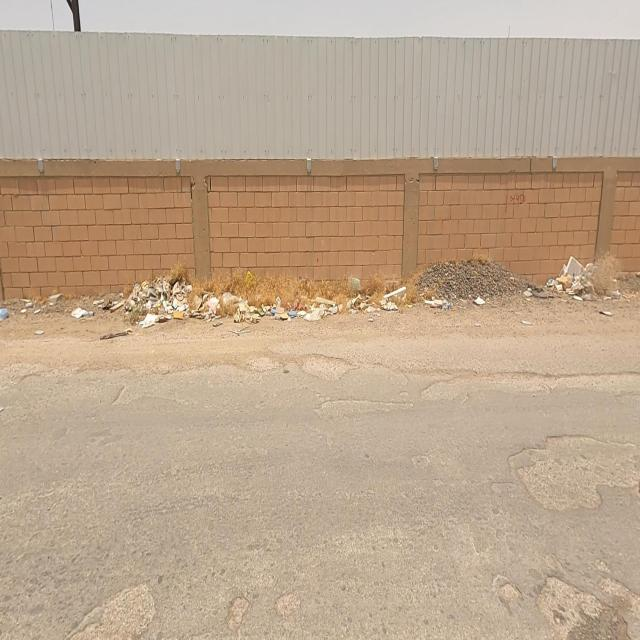Graffiti: (511, 194, 527, 208)
